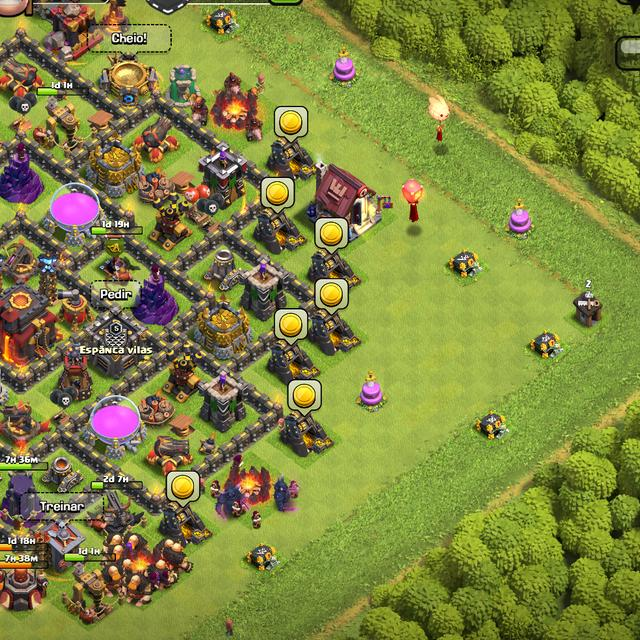coin: (262, 176, 296, 216), (315, 217, 347, 256), (275, 107, 309, 143), (288, 381, 322, 417), (274, 310, 308, 345), (317, 278, 349, 315), (168, 472, 199, 508)
